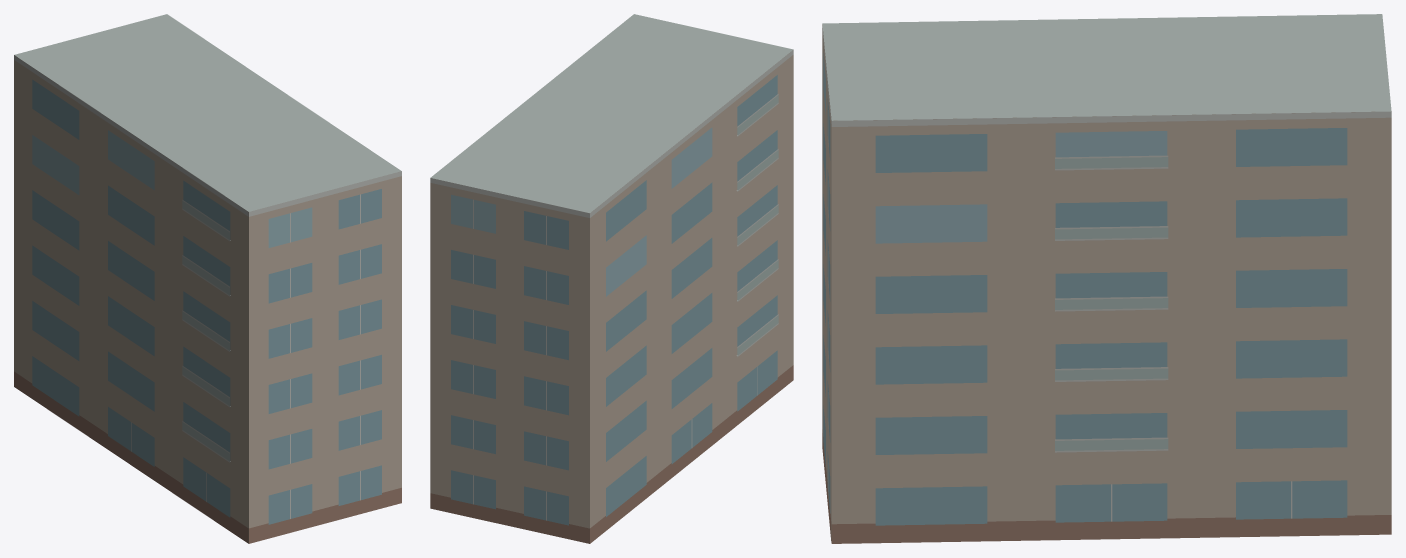
File: survey-upis-32560704.glb
3 renders of one model, left to right at view 1: azimuth 30°, elevation 25°; view 2: azimuth 150°, elevation 25°; view 3: azimuth 270°, elevation 25°, orthographic. The views are drawn at different scales.
Visible parts, largest first — view 1: survey-upis-32560704.tmp; view 2: survey-upis-32560704.tmp; view 3: survey-upis-32560704.tmp.
Part boxes in pixels (x1,y1,x2,y2): survey-upis-32560704.tmp: (14, 14, 401, 543); survey-upis-32560704.tmp: (430, 14, 793, 543); survey-upis-32560704.tmp: (822, 14, 1391, 543).
Size of the model in its own units: 8.92 by 16.45 by 20.07.
